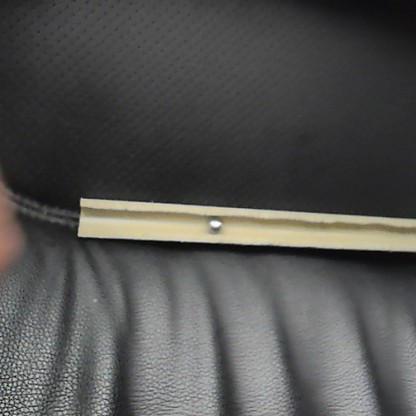ironball: (205, 215, 222, 233)
